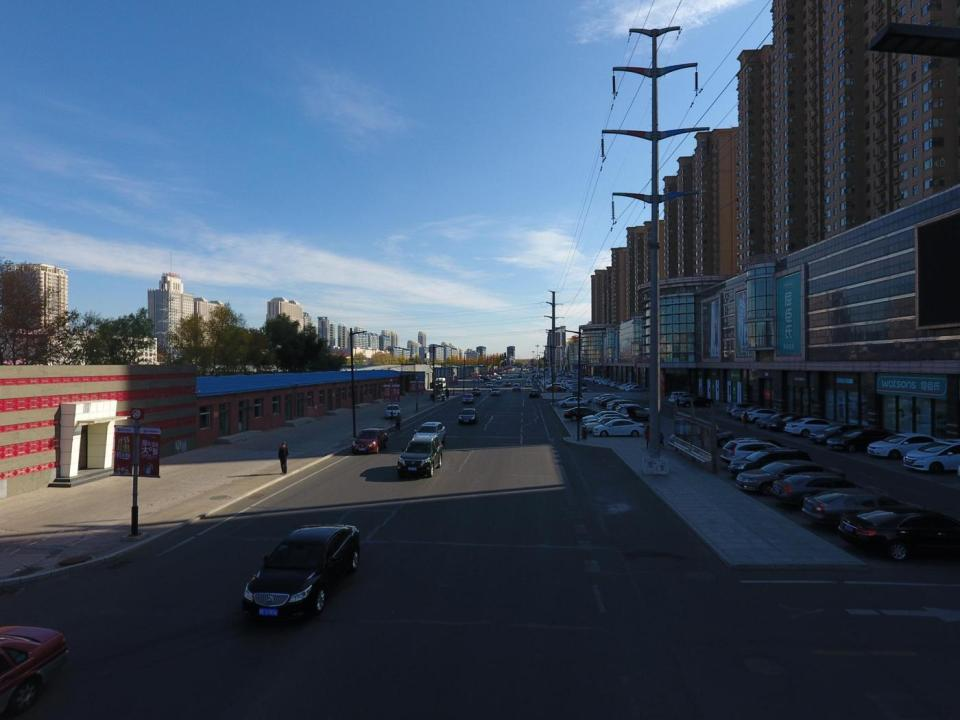bus: (434, 377, 446, 388)
car: (242, 524, 361, 622), (836, 508, 960, 562), (802, 490, 926, 531), (770, 470, 886, 510), (738, 460, 845, 499), (727, 447, 814, 483), (866, 433, 950, 463), (720, 438, 791, 473), (827, 426, 898, 456), (903, 440, 960, 475), (397, 435, 443, 477), (806, 422, 874, 447), (672, 425, 732, 449), (785, 417, 841, 437), (592, 419, 644, 438), (725, 401, 773, 420), (352, 428, 388, 453), (755, 411, 802, 430), (745, 406, 792, 425), (731, 404, 778, 423), (766, 414, 813, 432), (413, 422, 446, 447), (585, 416, 632, 431), (583, 411, 629, 426), (585, 414, 627, 430), (616, 404, 653, 420), (564, 407, 600, 421), (612, 402, 649, 413), (607, 400, 644, 411), (600, 397, 634, 408), (680, 397, 714, 408), (597, 394, 628, 406), (605, 398, 642, 408), (593, 393, 623, 405), (559, 395, 591, 405), (459, 408, 478, 424), (558, 397, 588, 407), (676, 394, 704, 404), (670, 392, 693, 403), (669, 395, 698, 402), (568, 384, 588, 392), (546, 386, 566, 392), (620, 385, 640, 391), (618, 382, 638, 388), (614, 382, 634, 388), (608, 382, 628, 388), (598, 380, 618, 386), (594, 378, 614, 384), (566, 382, 586, 388), (564, 380, 584, 386), (542, 382, 562, 388), (611, 380, 630, 386), (602, 380, 621, 386), (593, 378, 612, 384), (591, 377, 610, 383), (583, 376, 602, 382), (545, 382, 564, 388), (542, 380, 561, 386), (539, 378, 558, 384), (625, 386, 647, 391), (584, 376, 602, 382), (562, 378, 580, 384), (560, 378, 578, 384), (463, 394, 474, 403), (470, 388, 482, 396), (528, 390, 540, 397), (490, 388, 500, 396), (472, 377, 483, 383), (512, 383, 520, 391), (478, 377, 490, 381), (489, 386, 498, 391), (495, 378, 502, 384), (504, 381, 511, 386), (486, 382, 493, 387), (508, 375, 513, 379), (517, 374, 522, 378), (526, 378, 531, 382), (528, 374, 532, 378), (557, 372, 561, 376), (565, 373, 569, 377), (497, 376, 501, 379), (521, 372, 525, 375), (528, 376, 532, 379), (527, 371, 531, 374)
van: (526, 380, 532, 387)
